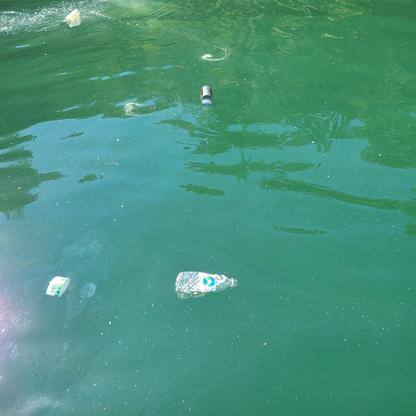can: (201, 84, 214, 105)
plastic bottle: (174, 271, 239, 294), (63, 8, 80, 22)
